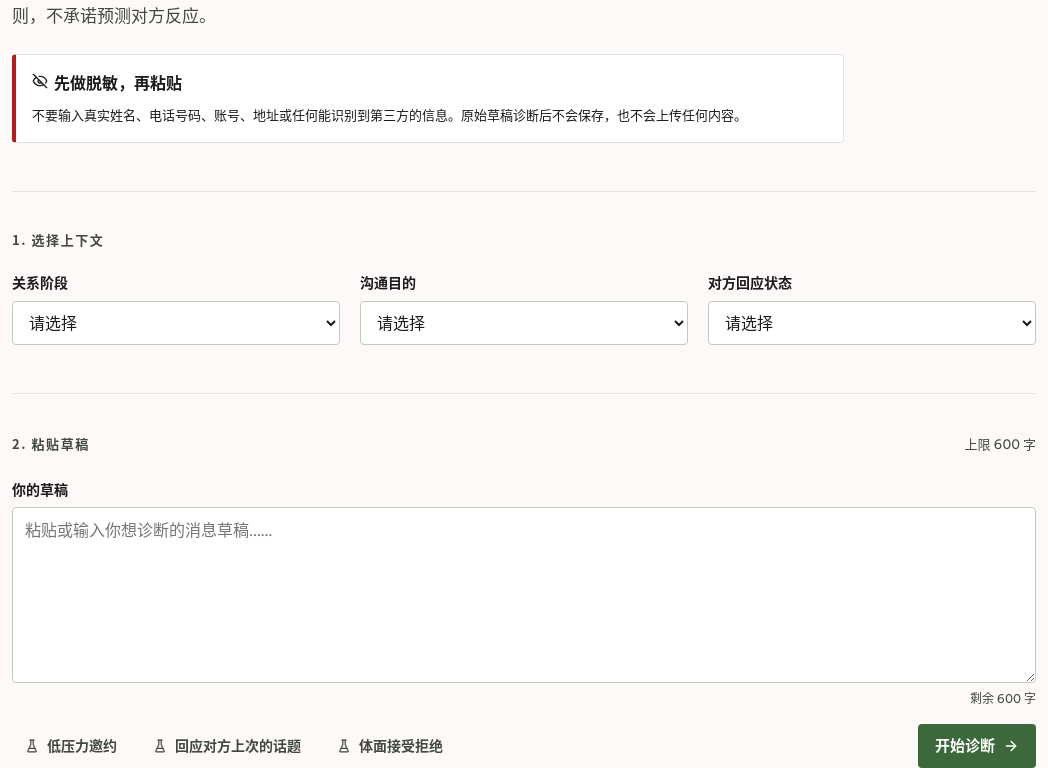
Test case: 消息实验室 › 未选择完整上下文时不能诊断
(page scrolled)
Type "周末有空一起散步吗" into the text box with placeholder "粘贴或输入你想诊断的消息草稿……" at (524, 595), box [12,507,1036,683]
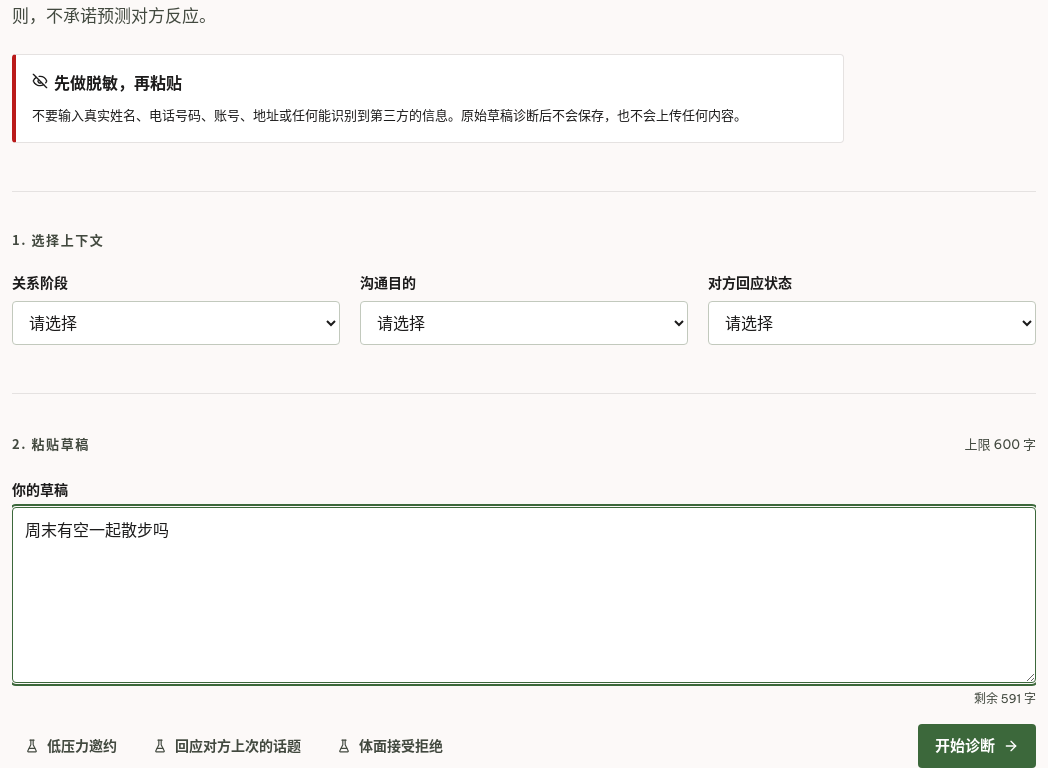
Click the button "开始诊断" at (977, 746), box [918,724,1036,767]
(page scrolled)
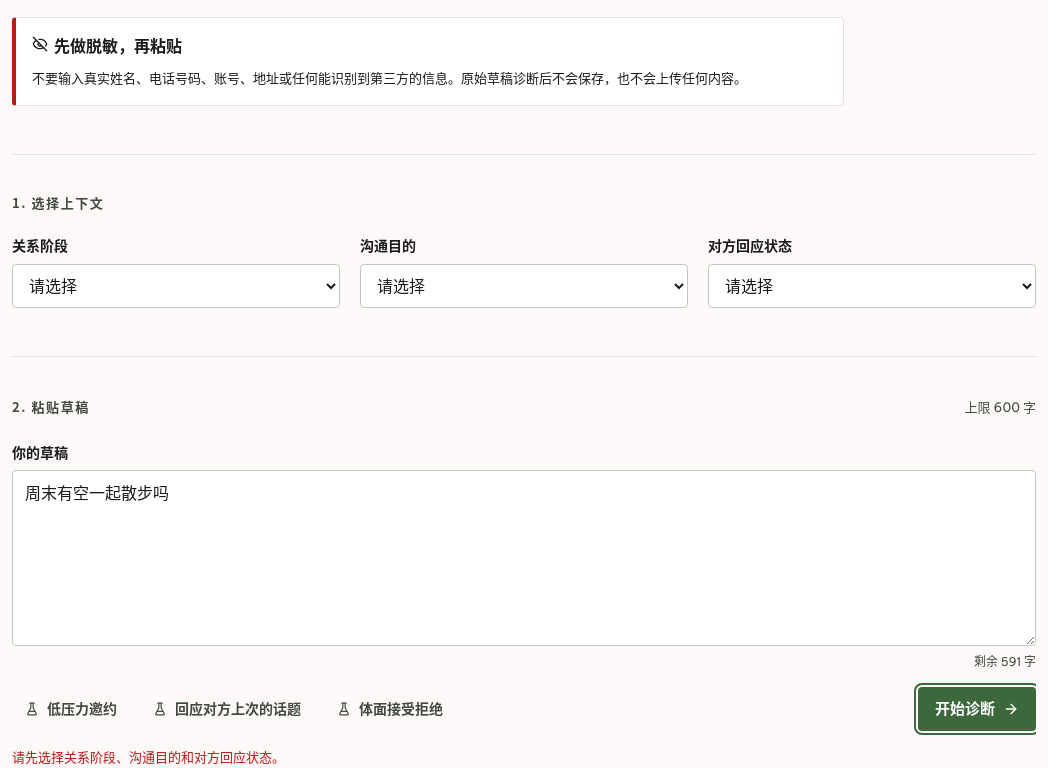
Check: the message shows "请先选择关系阶段", box [12,749,285,765]
